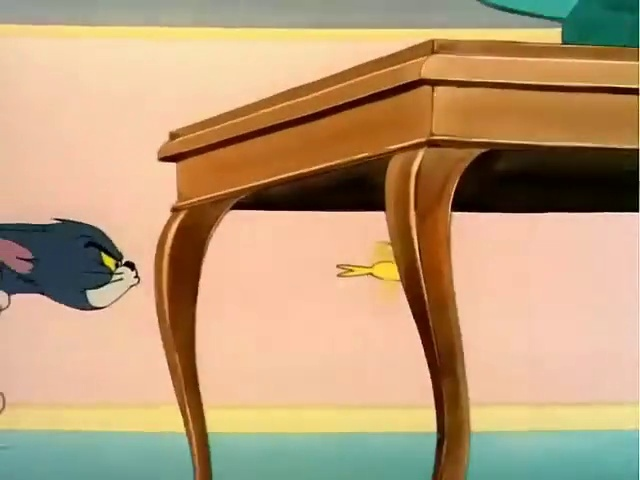tom: (0, 191, 159, 355)
